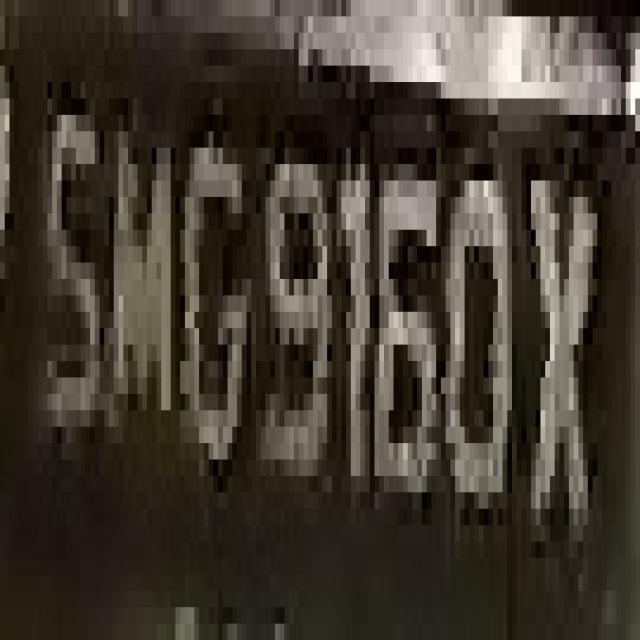0: (436, 164, 522, 509)
1: (341, 115, 370, 525)
6: (374, 115, 441, 541)
9: (256, 115, 327, 492)
G: (176, 66, 252, 508)
M: (90, 82, 180, 476)
S: (38, 49, 109, 460)
X: (512, 132, 602, 574)
